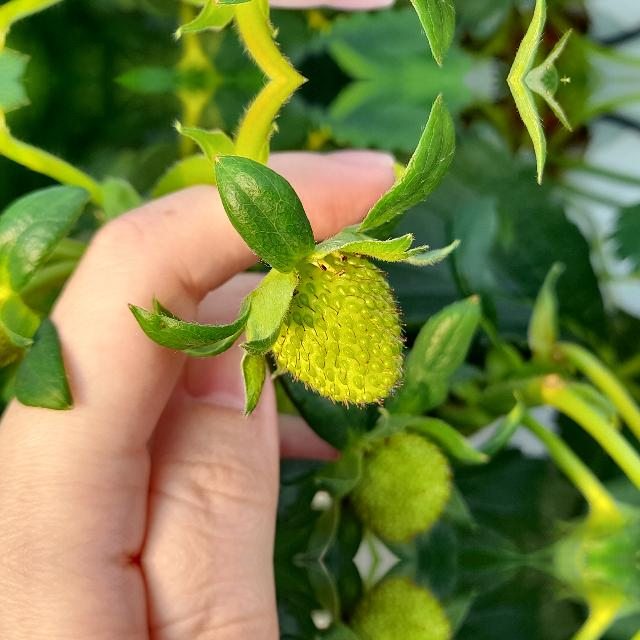Health_25: (268, 250, 408, 408)
